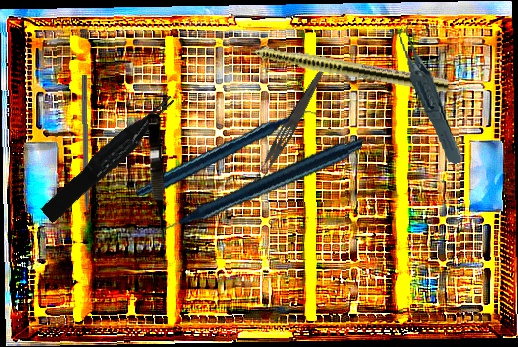Dressing Forceps: (248, 66, 327, 191)
Handpiece: (148, 95, 364, 272), (134, 83, 319, 225), (216, 35, 451, 95)
Hook Surgical: (79, 74, 90, 231)
Micro Scissor: (144, 113, 170, 247)
Tissue Forceps: (35, 92, 185, 224), (397, 15, 464, 169)
